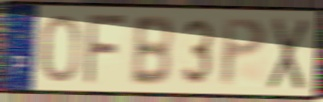3: (180, 18, 215, 86)
B: (129, 13, 175, 88)
F: (82, 13, 131, 87)
O: (40, 12, 81, 85)
P: (220, 16, 268, 90)
X: (266, 14, 311, 93)
